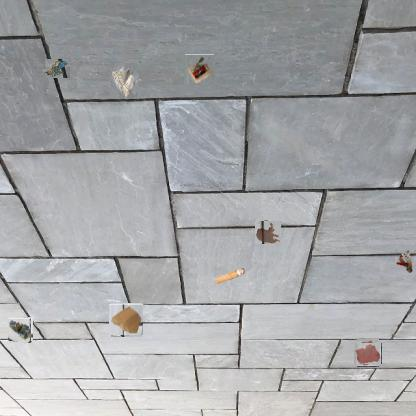dirty: (108, 64, 141, 98), (110, 304, 143, 336), (184, 55, 215, 85), (214, 266, 246, 286), (8, 318, 33, 342), (44, 58, 70, 78), (396, 248, 416, 274)
liquid: (256, 220, 280, 244), (356, 341, 380, 365)
